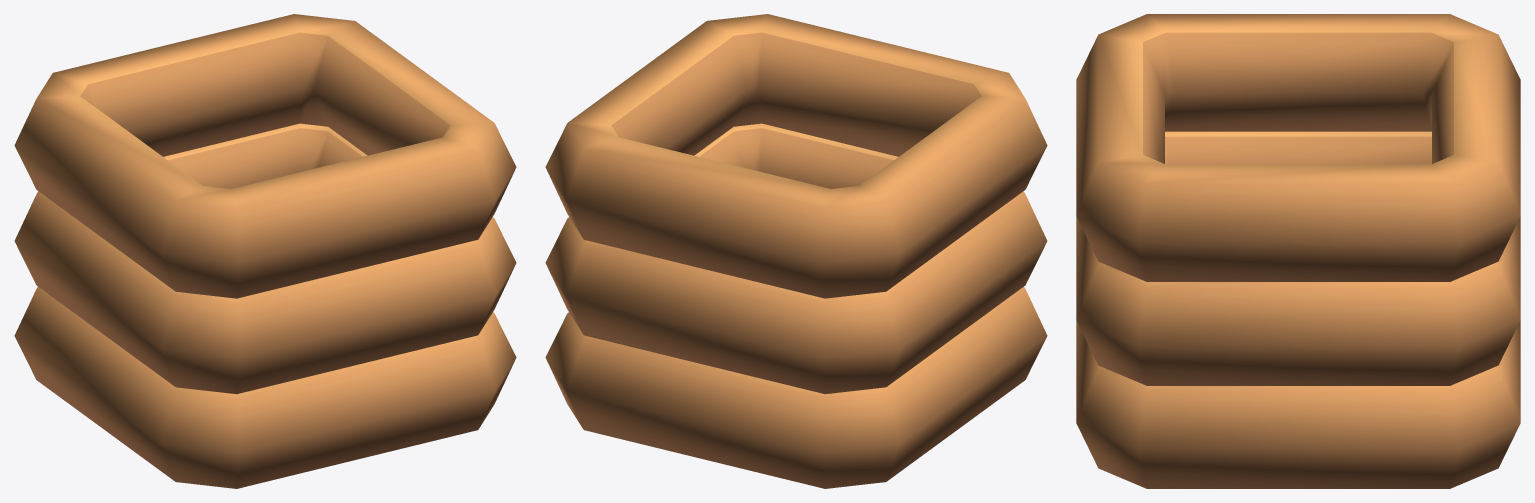
Rendered from m_deco_ropeSmall.FBX.
3 views of the same model, side by side, from view 1: azimuth 30°, elevation 25°; view 2: azimuth 150°, elevation 25°; view 3: azimuth 270°, elevation 25° (orthographic). The views are drawn at different scales.
Parts seen in each view (by area): view 1: m_deco_ropeSmall; view 2: m_deco_ropeSmall; view 3: m_deco_ropeSmall.
Part boxes in pixels (x1=…): m_deco_ropeSmall: x1=14, y1=14, x2=516, y2=488; m_deco_ropeSmall: x1=545, y1=14, x2=1047, y2=488; m_deco_ropeSmall: x1=1076, y1=14, x2=1520, y2=488.
Bounding box in the file's own units: 0.8818 × 0.6693 × 0.8818.
